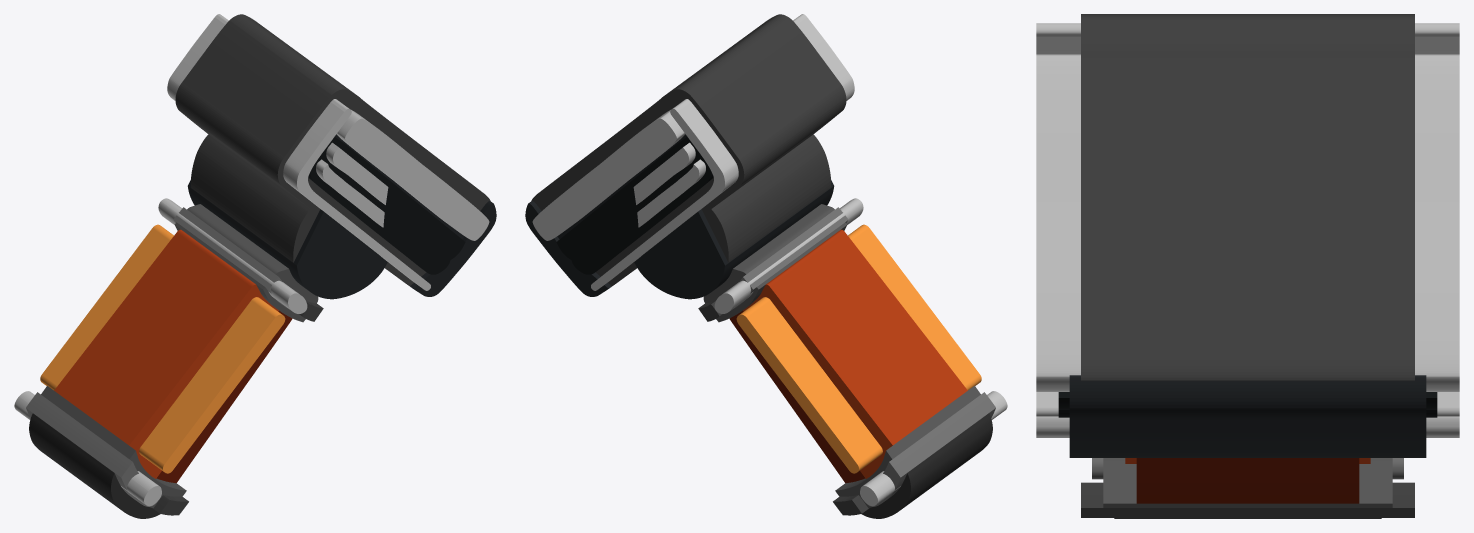
3 renders of one model, left to right at view 1: azimuth 30°, elevation 25°; view 2: azimuth 150°, elevation 25°; view 3: azimuth 270°, elevation 25°, orthographic. The views are drawn at different scales.
Visible parts, largest first — view 1: U+1FA92_layer01_obj00, U+1FA92_layer05_obj03, U+1FA92_layer08_obj00, U+1FA92_layer05_obj01, U+1FA92_layer06_obj00, U+1FA92_layer07_obj00, U+1FA92_layer09_obj02, U+1FA92_layer09_obj04, U+1FA92_layer02_obj00, U+1FA92_layer04_obj00, U+1FA92_layer03_obj00, U+1FA92_layer03_obj01 (+7 smaller); view 2: U+1FA92_layer01_obj00, U+1FA92_layer05_obj03, U+1FA92_layer08_obj00, U+1FA92_layer05_obj01, U+1FA92_layer06_obj00, U+1FA92_layer07_obj00, U+1FA92_layer09_obj02, U+1FA92_layer09_obj04, U+1FA92_layer02_obj00, U+1FA92_layer04_obj00, U+1FA92_layer03_obj00, U+1FA92_layer03_obj01 (+7 smaller); view 3: U+1FA92_layer05_obj03, U+1FA92_layer09_obj02, U+1FA92_layer06_obj01, U+1FA92_layer00_obj00, U+1FA92_layer05_obj02, U+1FA92_layer03_obj01, U+1FA92_layer09_obj04, U+1FA92_layer09_obj01, U+1FA92_layer07_obj00, U+1FA92_layer04_obj00.
Part boxes in pixels (x1,y1,x2,y2): U+1FA92_layer01_obj00: [54, 229, 278, 478]; U+1FA92_layer05_obj03: [175, 14, 490, 286]; U+1FA92_layer08_obj00: [40, 224, 285, 473]; U+1FA92_layer05_obj01: [191, 134, 318, 262]; U+1FA92_layer06_obj00: [187, 180, 387, 299]; U+1FA92_layer07_obj00: [308, 136, 465, 274]; U+1FA92_layer09_obj02: [336, 110, 489, 240]; U+1FA92_layer09_obj04: [167, 14, 430, 290]; U+1FA92_layer02_obj00: [29, 413, 160, 518]; U+1FA92_layer04_obj00: [26, 392, 154, 506]; U+1FA92_layer03_obj00: [174, 204, 318, 322]; U+1FA92_layer03_obj01: [41, 386, 186, 508]; U+1FA92_layer01_obj00: [743, 229, 967, 478]; U+1FA92_layer05_obj03: [531, 14, 846, 286]; U+1FA92_layer08_obj00: [736, 224, 981, 473]; U+1FA92_layer05_obj01: [703, 134, 830, 262]; U+1FA92_layer06_obj00: [634, 180, 834, 299]; U+1FA92_layer07_obj00: [556, 136, 713, 274]; U+1FA92_layer09_obj02: [532, 110, 685, 240]; U+1FA92_layer09_obj04: [591, 14, 854, 290]; U+1FA92_layer02_obj00: [861, 413, 992, 518]; U+1FA92_layer04_obj00: [867, 392, 995, 506]; U+1FA92_layer03_obj00: [703, 204, 847, 322]; U+1FA92_layer03_obj01: [835, 386, 980, 508]; U+1FA92_layer05_obj03: [1081, 14, 1414, 380]; U+1FA92_layer09_obj02: [1036, 54, 1459, 391]; U+1FA92_layer06_obj01: [1069, 375, 1426, 457]; U+1FA92_layer00_obj00: [1136, 458, 1359, 503]; U+1FA92_layer05_obj02: [1081, 482, 1414, 517]; U+1FA92_layer03_obj01: [1103, 458, 1392, 507]; U+1FA92_layer09_obj04: [1036, 23, 1459, 416]; U+1FA92_layer09_obj01: [1036, 416, 1459, 437]; U+1FA92_layer07_obj00: [1058, 392, 1437, 417]; U+1FA92_layer04_obj00: [1092, 458, 1403, 479].
Bounding box in the file's own units: 0.3149 × 0.3171 × 0.19.
